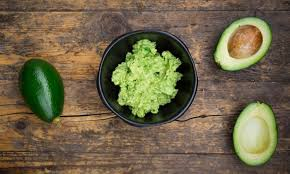aguacate: (211, 13, 279, 86), (14, 53, 67, 133)
